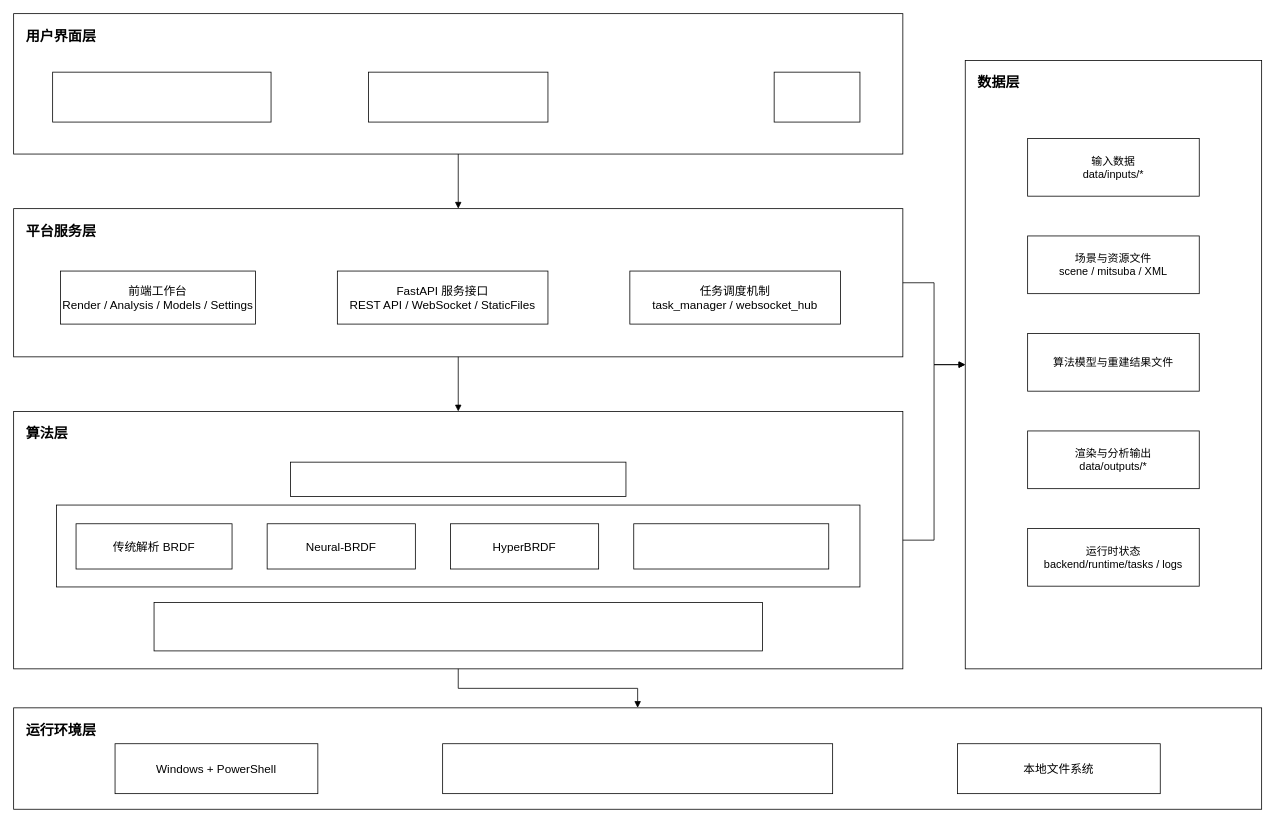
The diagram is 1275 pixels wide and 823 high, and some of its shapes have lost their labels. The centre of each missing label's shape, as x and y in pixels:
"Conda 环境 matreflect / nbrdf-train / 算法独立环境" belongs at (637,768).
"Web 浏览器 / V2 Workspace" belongs at (161,96).
"可插拔算法模块池" belongs at (458,478).
"启动脚本入口 PowerShell / CMD" belongs at (458,96).
"材质分量独立编辑" belongs at (816,96).
"核心能力：漫反射 / 镜面反射分量解耦重建；双分量独立编辑" belongs at (457,626).
"自研解耦式 BRDF 模型" belongs at (731,546).
